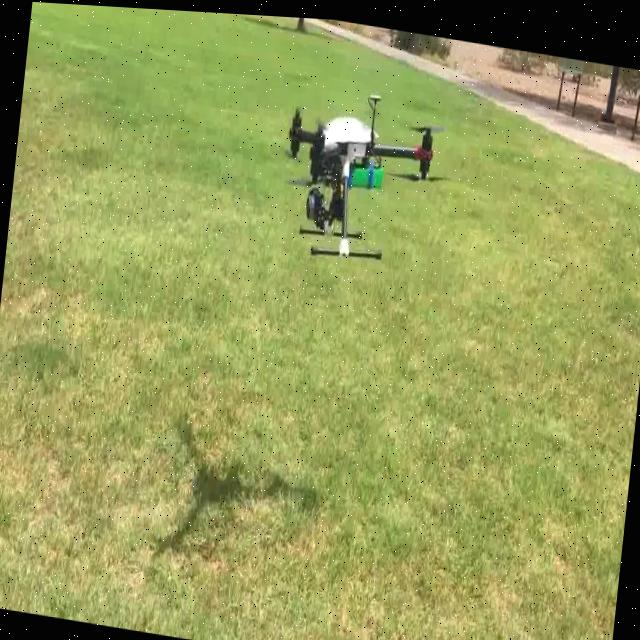drone: (274, 82, 440, 268)
